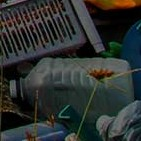garbage: (2, 1, 141, 140)
